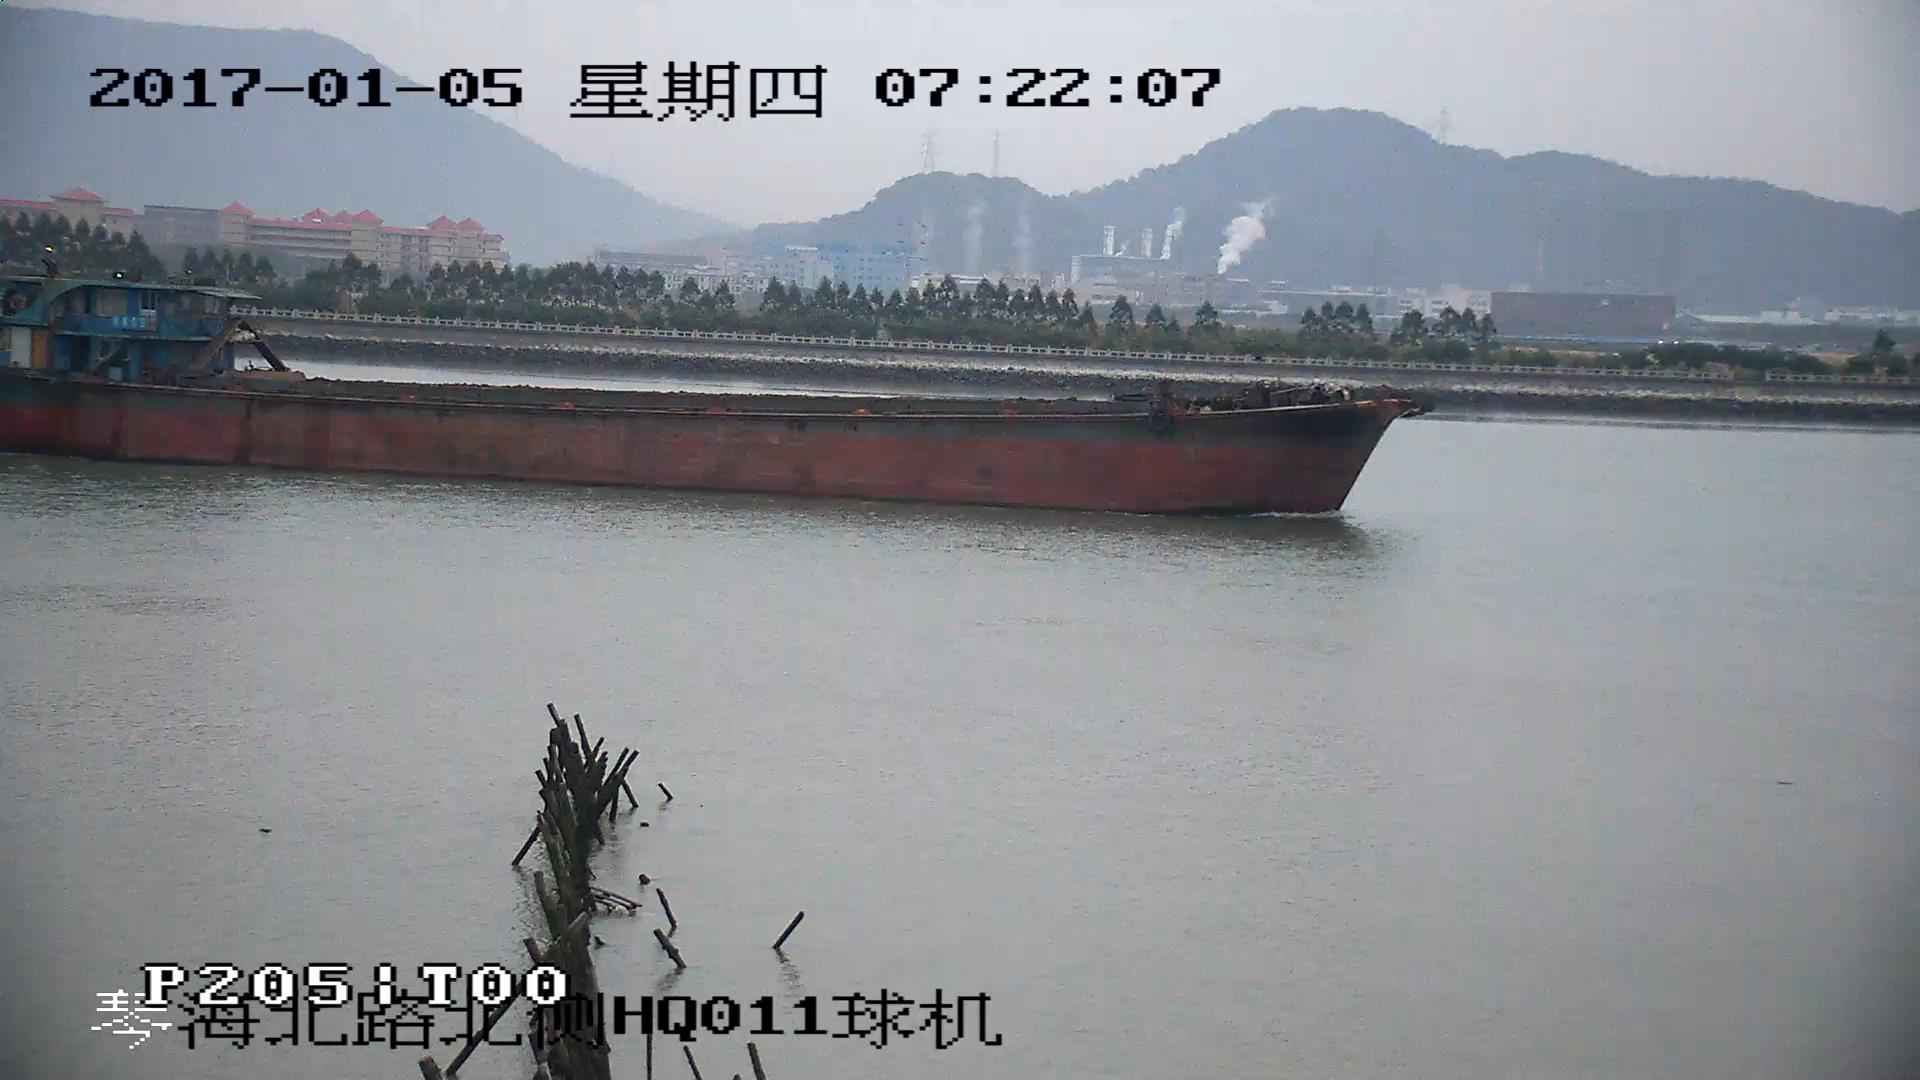bulk cargo carrier: (1, 277, 1423, 516)
